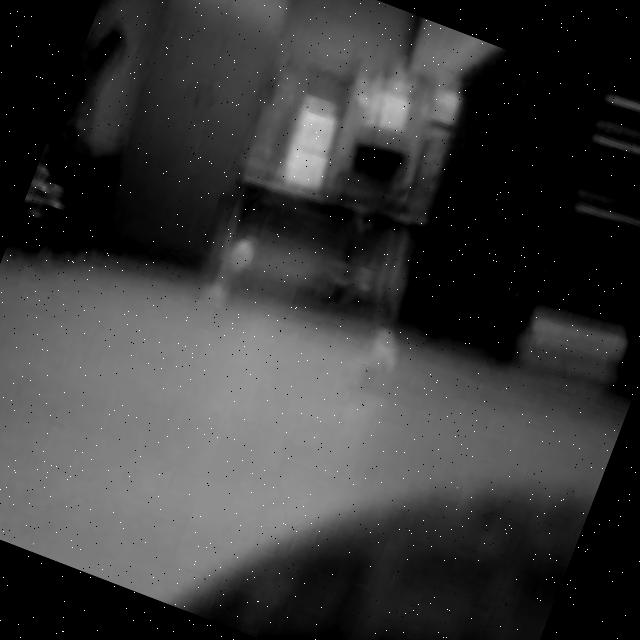ping-pong-ball: (346, 319, 412, 402), (216, 230, 259, 282)
